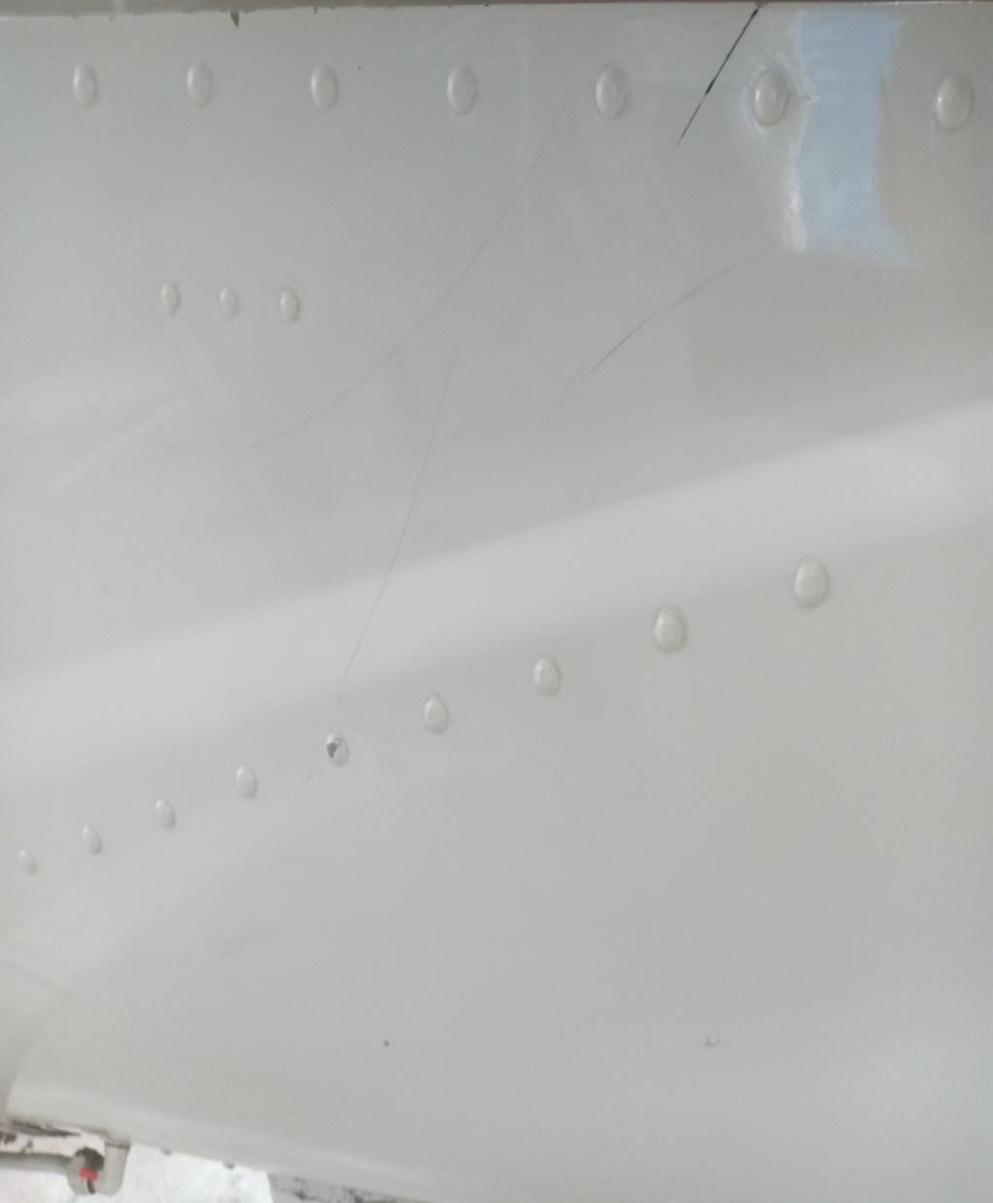crack: (680, 0, 761, 141)
